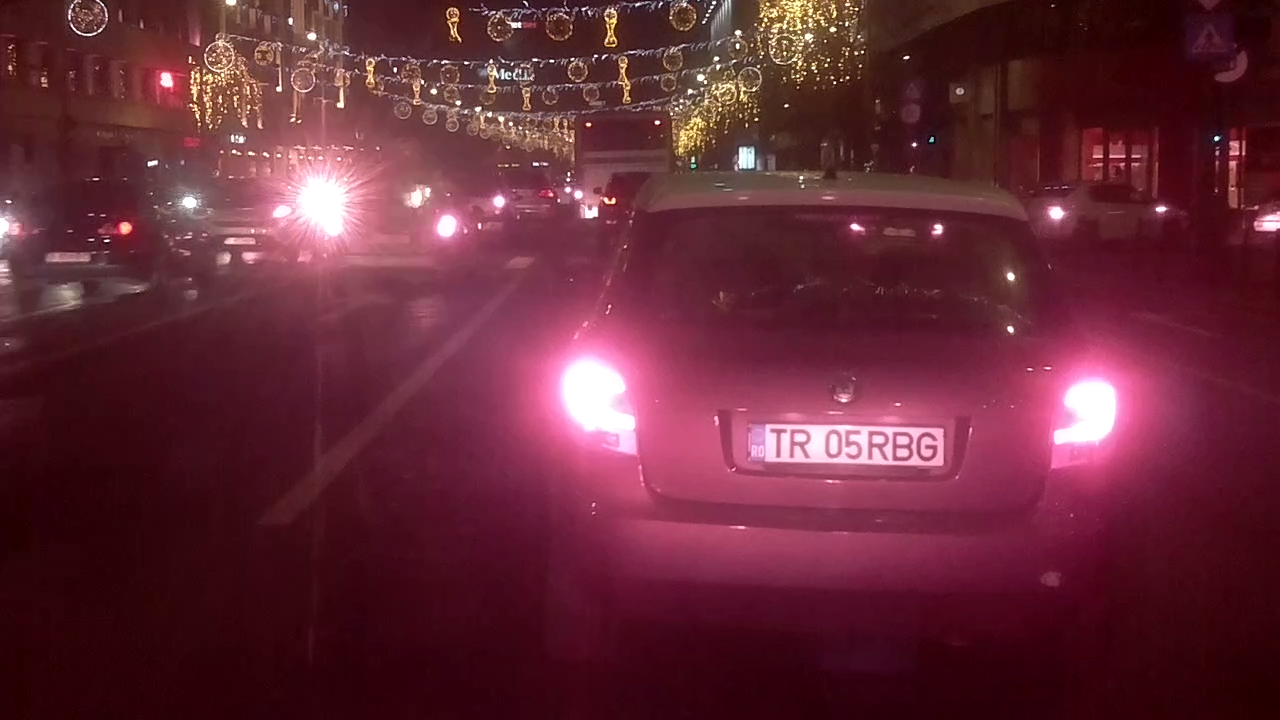license-plate: (739, 415, 951, 471)
